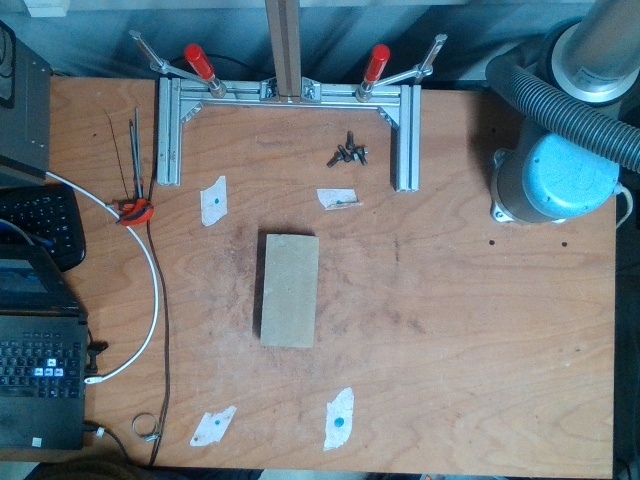brick: (261, 235, 317, 345)
